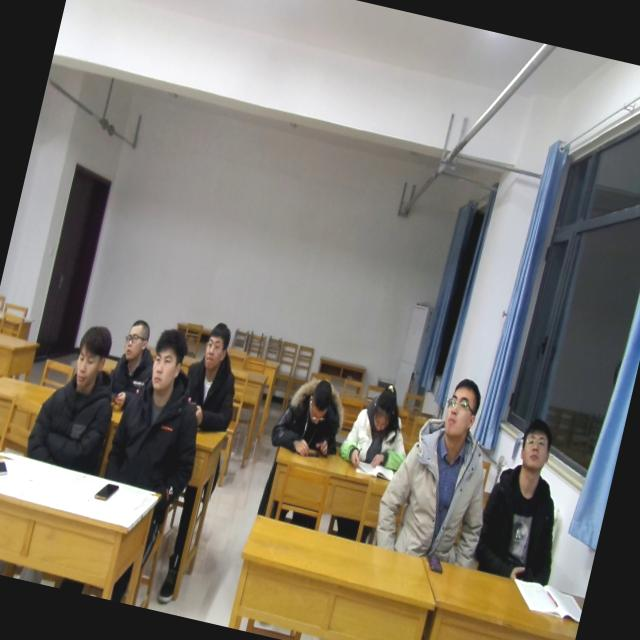down: (298, 373, 340, 431), (363, 380, 403, 438)
lookup: (64, 315, 116, 397), (140, 319, 192, 396), (434, 372, 485, 446), (510, 414, 558, 482), (197, 316, 236, 374), (118, 312, 154, 366)
sit: (369, 368, 515, 576), (471, 410, 588, 588), (103, 322, 218, 498), (22, 314, 131, 472), (169, 315, 254, 435), (334, 379, 422, 488), (270, 360, 358, 454), (98, 313, 158, 391)
